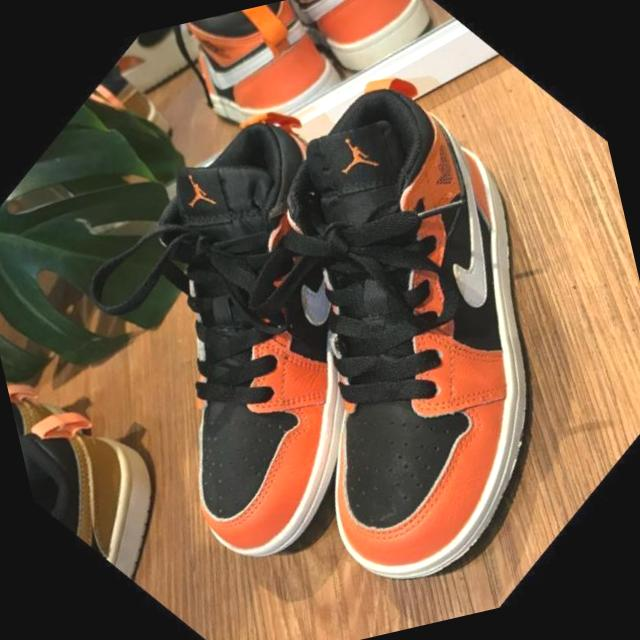nike_fake_jordan: (68, 9, 640, 640), (0, 47, 558, 635), (223, 0, 463, 129)
